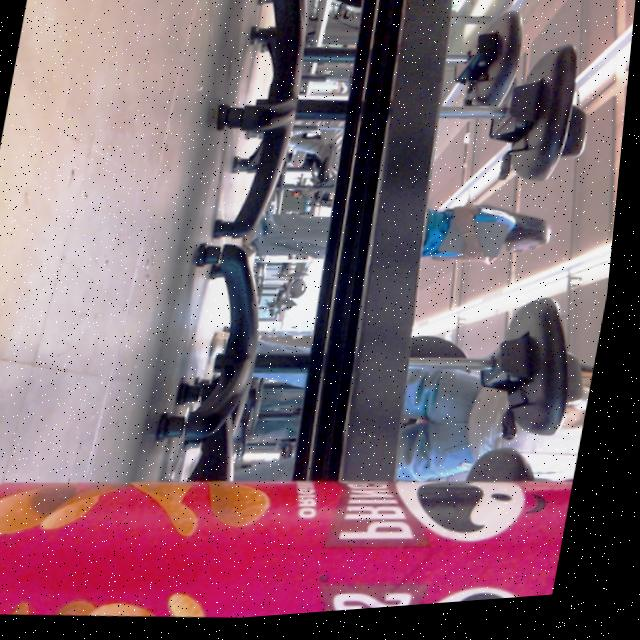redpringles: (0, 422, 589, 640)
